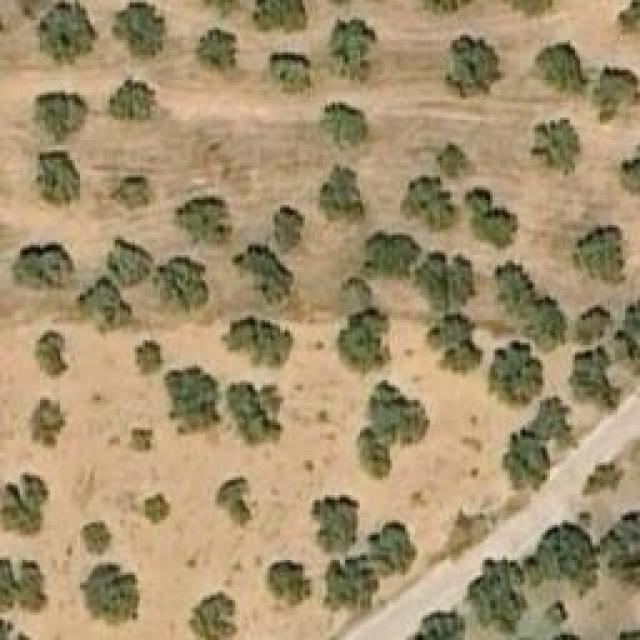Tree: (503, 398, 578, 491), (495, 263, 568, 346), (23, 0, 98, 68), (465, 555, 528, 628), (330, 308, 390, 381), (225, 380, 283, 450), (165, 367, 223, 435), (540, 520, 598, 588), (80, 563, 140, 628), (233, 243, 293, 306), (223, 315, 293, 368), (365, 383, 430, 438), (490, 340, 543, 405), (570, 345, 623, 410), (330, 17, 380, 85), (448, 35, 501, 98), (400, 177, 455, 235), (468, 188, 521, 248), (428, 313, 481, 373), (573, 227, 626, 285), (323, 555, 376, 613), (423, 247, 476, 305), (13, 242, 76, 290), (0, 473, 48, 536), (173, 195, 233, 245), (158, 255, 208, 315), (113, 3, 166, 58), (193, 28, 246, 81), (312, 495, 360, 553), (320, 103, 375, 153), (538, 40, 588, 95), (365, 230, 420, 280), (607, 507, 640, 587), (320, 165, 365, 223), (592, 70, 640, 123), (38, 93, 88, 143), (532, 118, 580, 168), (0, 558, 45, 611), (38, 153, 81, 208), (408, 612, 491, 640), (187, 592, 235, 640), (365, 520, 413, 568), (110, 78, 158, 123), (268, 560, 313, 608), (30, 398, 70, 451), (615, 295, 640, 375), (583, 455, 626, 495), (270, 53, 310, 96), (83, 285, 123, 325), (35, 330, 68, 378), (218, 475, 251, 523), (358, 430, 388, 478), (108, 243, 141, 286), (255, 0, 305, 28), (275, 205, 303, 253), (578, 305, 613, 343), (620, 142, 640, 200), (78, 523, 113, 556), (115, 175, 150, 208), (617, 0, 640, 40), (138, 343, 163, 373), (145, 493, 170, 523), (440, 145, 465, 175), (545, 600, 568, 628), (0, 617, 27, 640), (130, 430, 155, 453), (602, 625, 640, 640)
